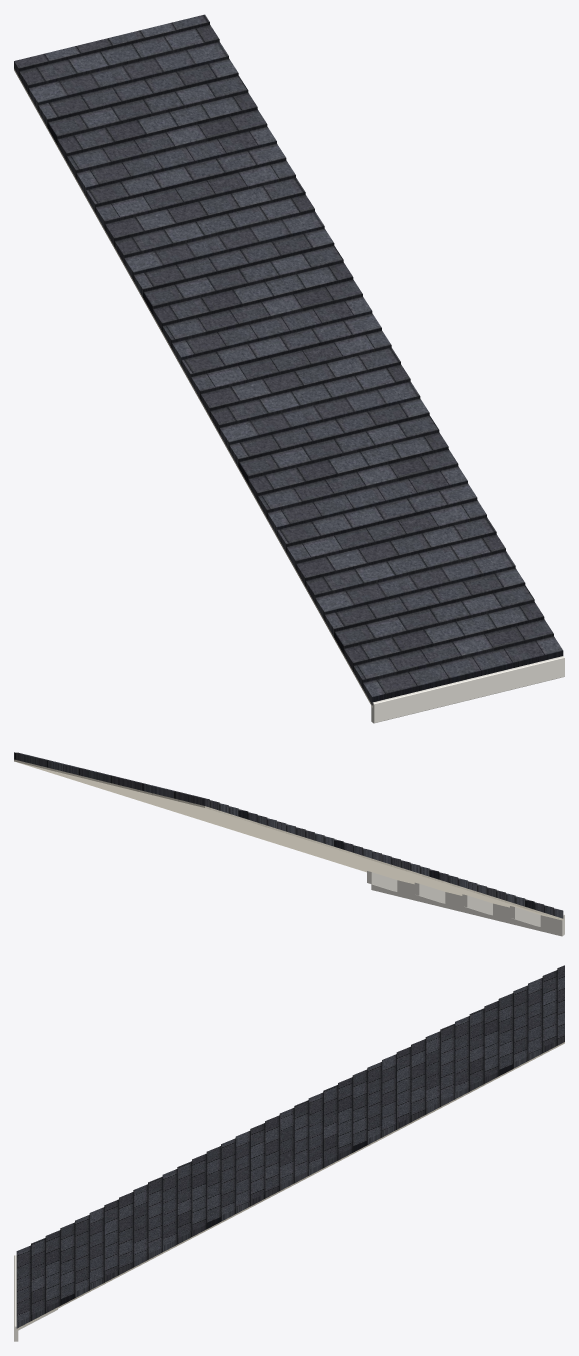
The model's file is roof_main_0_porch.glb.
The picture shows the model from 3 angles, top to bottom: view 1: azimuth 30°, elevation 25°; view 2: azimuth 150°, elevation 25°; view 3: azimuth 270°, elevation 25°; orthographic projection. The views are drawn at different scales.
Visible parts, largest first — view 1: roof_main_0_porch_shingles, roof_main_0_porch_trim, roof_main_0_porch_plaster; view 2: roof_main_0_porch_plaster, roof_main_0_porch_shingles, roof_main_0_porch_trim; view 3: roof_main_0_porch_shingles, roof_main_0_porch_plaster.
Part boxes in pixels (bbox=[...]): roof_main_0_porch_shingles: bbox=[14, 14, 563, 705]; roof_main_0_porch_trim: bbox=[371, 656, 564, 723]; roof_main_0_porch_plaster: bbox=[14, 68, 372, 707]; roof_main_0_porch_plaster: bbox=[14, 759, 563, 920]; roof_main_0_porch_shingles: bbox=[14, 752, 563, 918]; roof_main_0_porch_trim: bbox=[367, 871, 564, 936]; roof_main_0_porch_shingles: bbox=[16, 965, 564, 1328]; roof_main_0_porch_plaster: bbox=[16, 1042, 564, 1329].
Size of the model in its own units: 2 by 3.99 by 6.53.
Materials: 3 (2 with a texture image).
